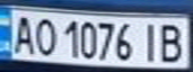0: (78, 18, 96, 60)
1: (57, 17, 81, 57)
6: (115, 19, 139, 62)
7: (93, 18, 118, 61)
A: (6, 11, 39, 55)
B: (154, 20, 190, 63)
I: (136, 20, 163, 63)
O: (30, 15, 57, 56)
